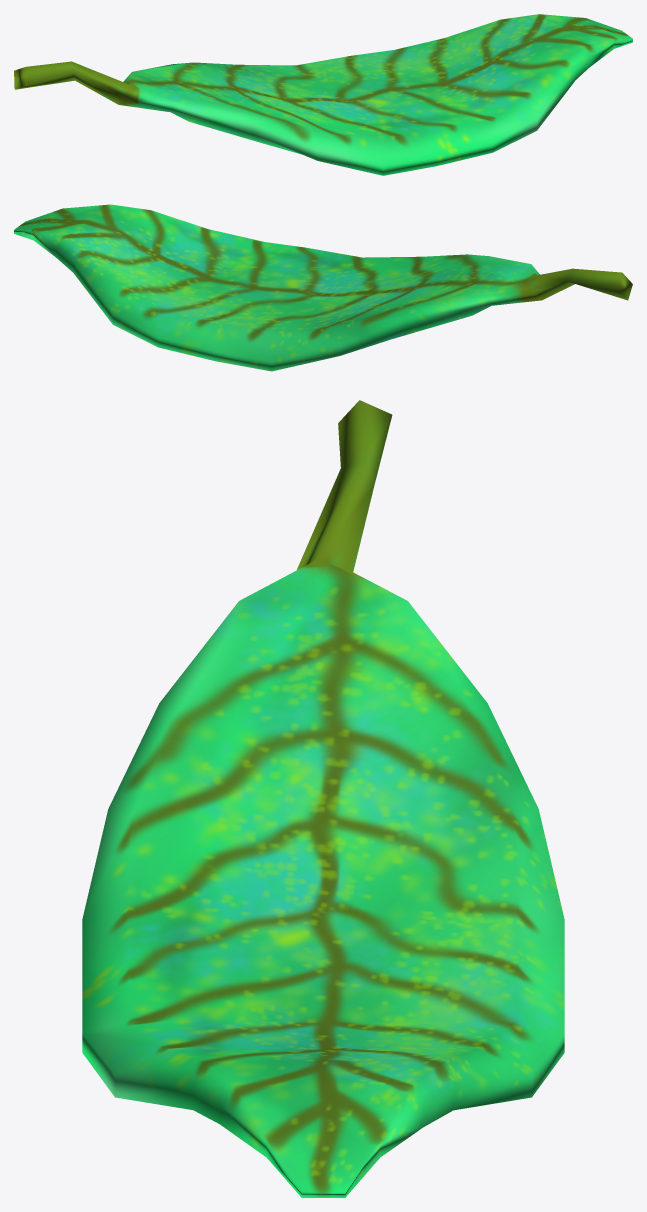
File: Leaf-Particle.fbx
3 renders of one model, top to bottom at view 1: azimuth 30°, elevation 25°; view 2: azimuth 150°, elevation 25°; view 3: azimuth 270°, elevation 25°, orthographic. The views are drawn at different scales.
Visible parts, largest first — view 1: polySurface1; view 2: polySurface1; view 3: polySurface1.
Part boxes in pixels (box(x1,y1,x2,y2)): polySurface1: box(14, 14, 632, 175); polySurface1: box(14, 204, 632, 371); polySurface1: box(82, 400, 564, 1197).
Size of the model in its own units: 0.4205 by 0.0884 by 0.146.
Materials: 1 (1 with a texture image).
